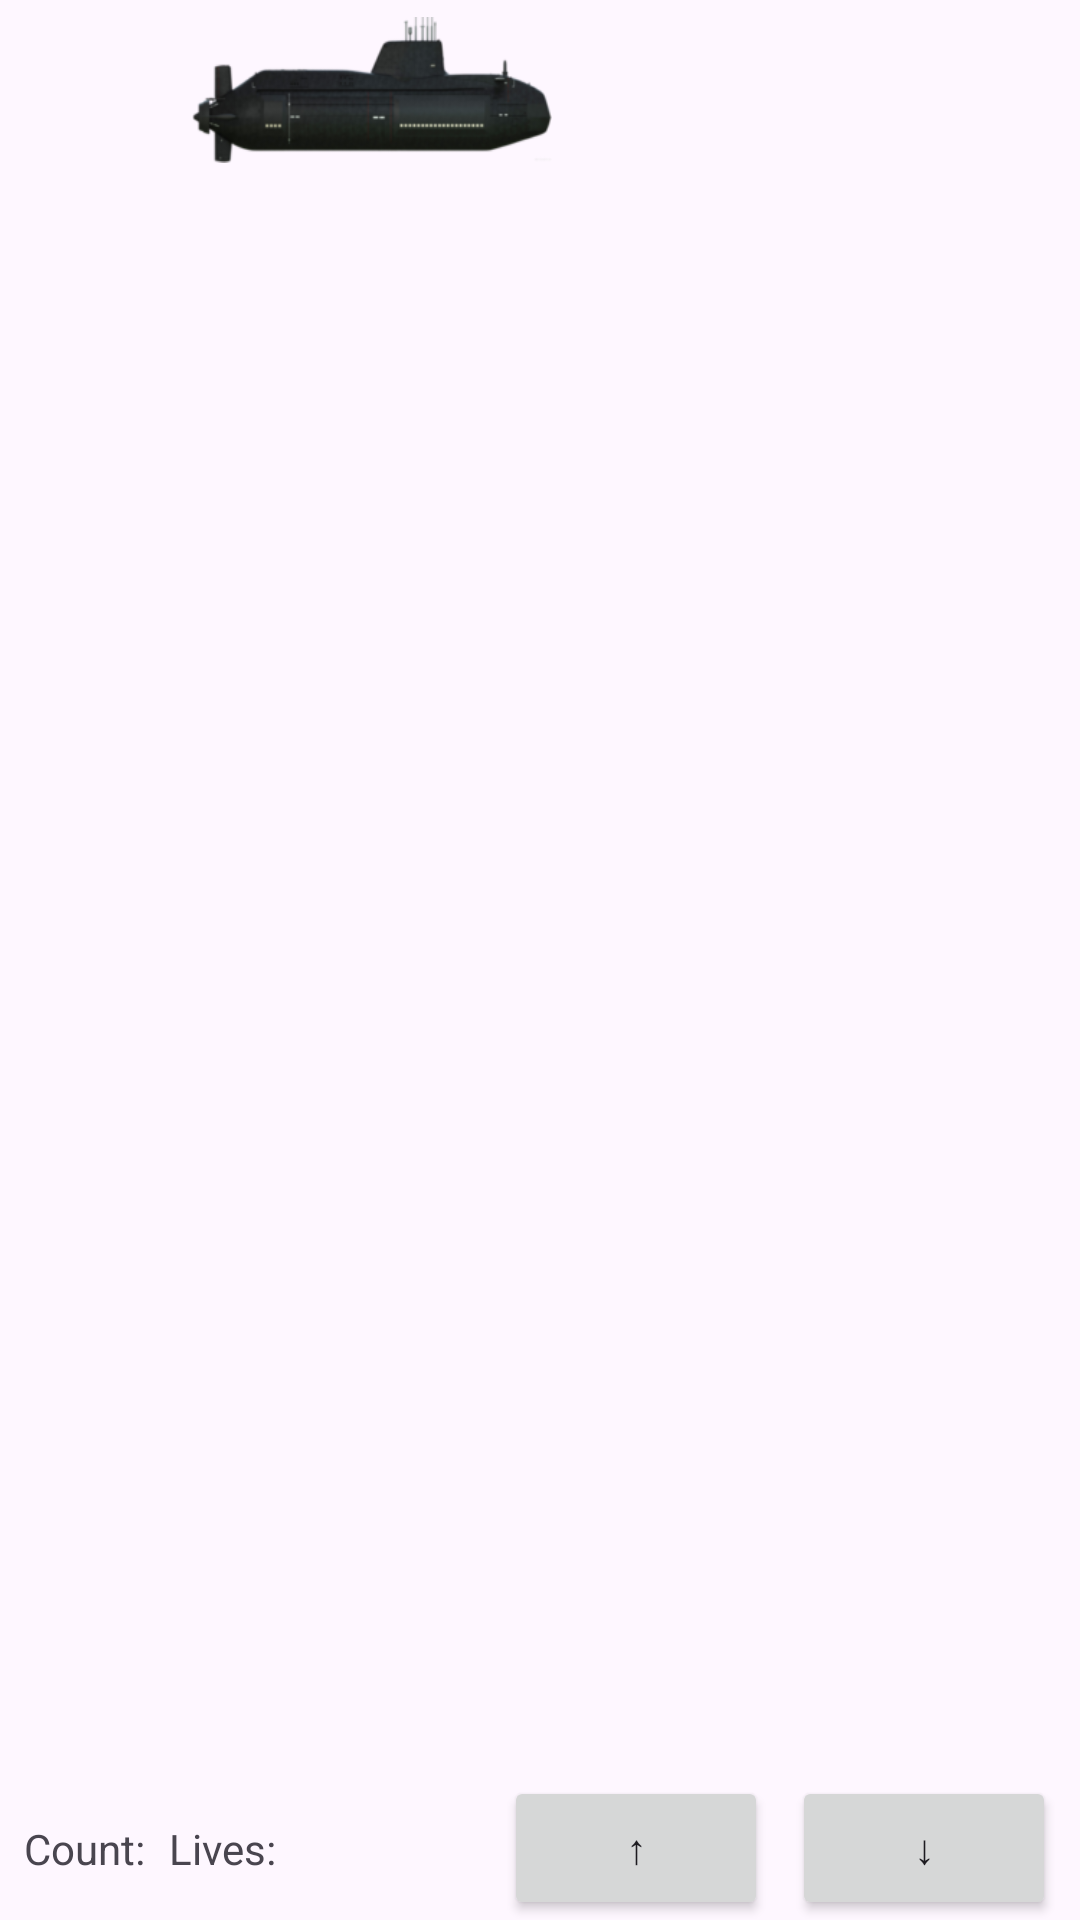

Locate icon controls on the screen. Image size 1080×1920, boxes as Rect(x1, y1, x2, y2).
pic submarine: Rect(193, 17, 552, 163)
